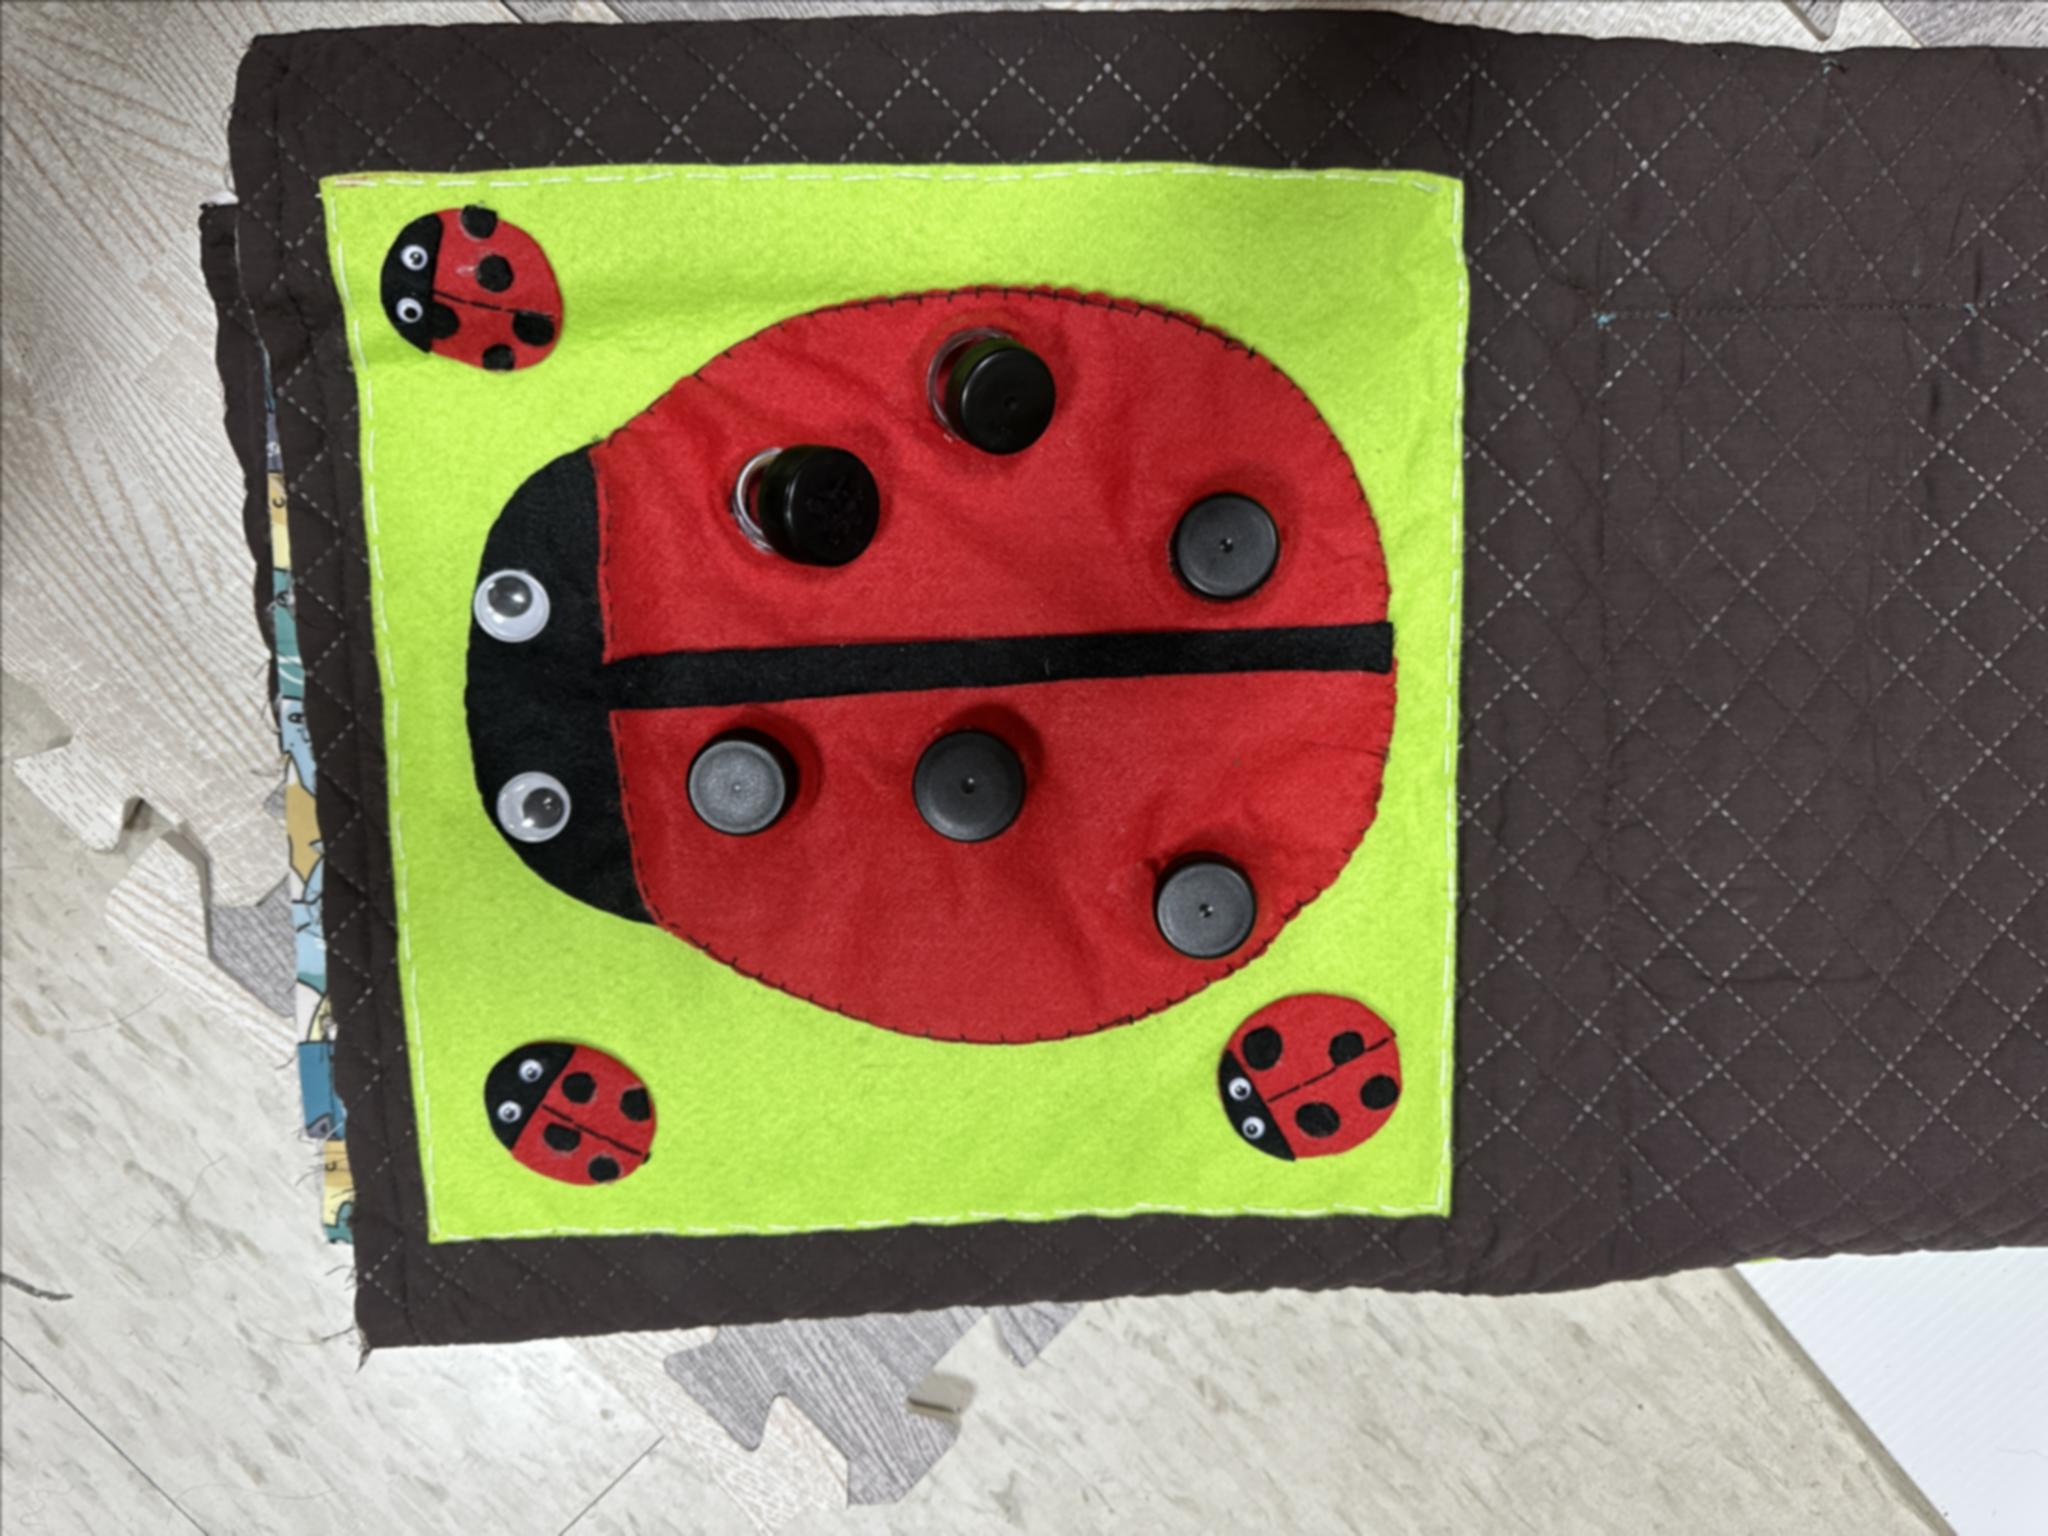cap_ng: (705, 423, 905, 586), (919, 328, 1064, 471)
cap_ok: (1140, 447, 1314, 628), (1116, 836, 1277, 983), (864, 863, 872, 870)
